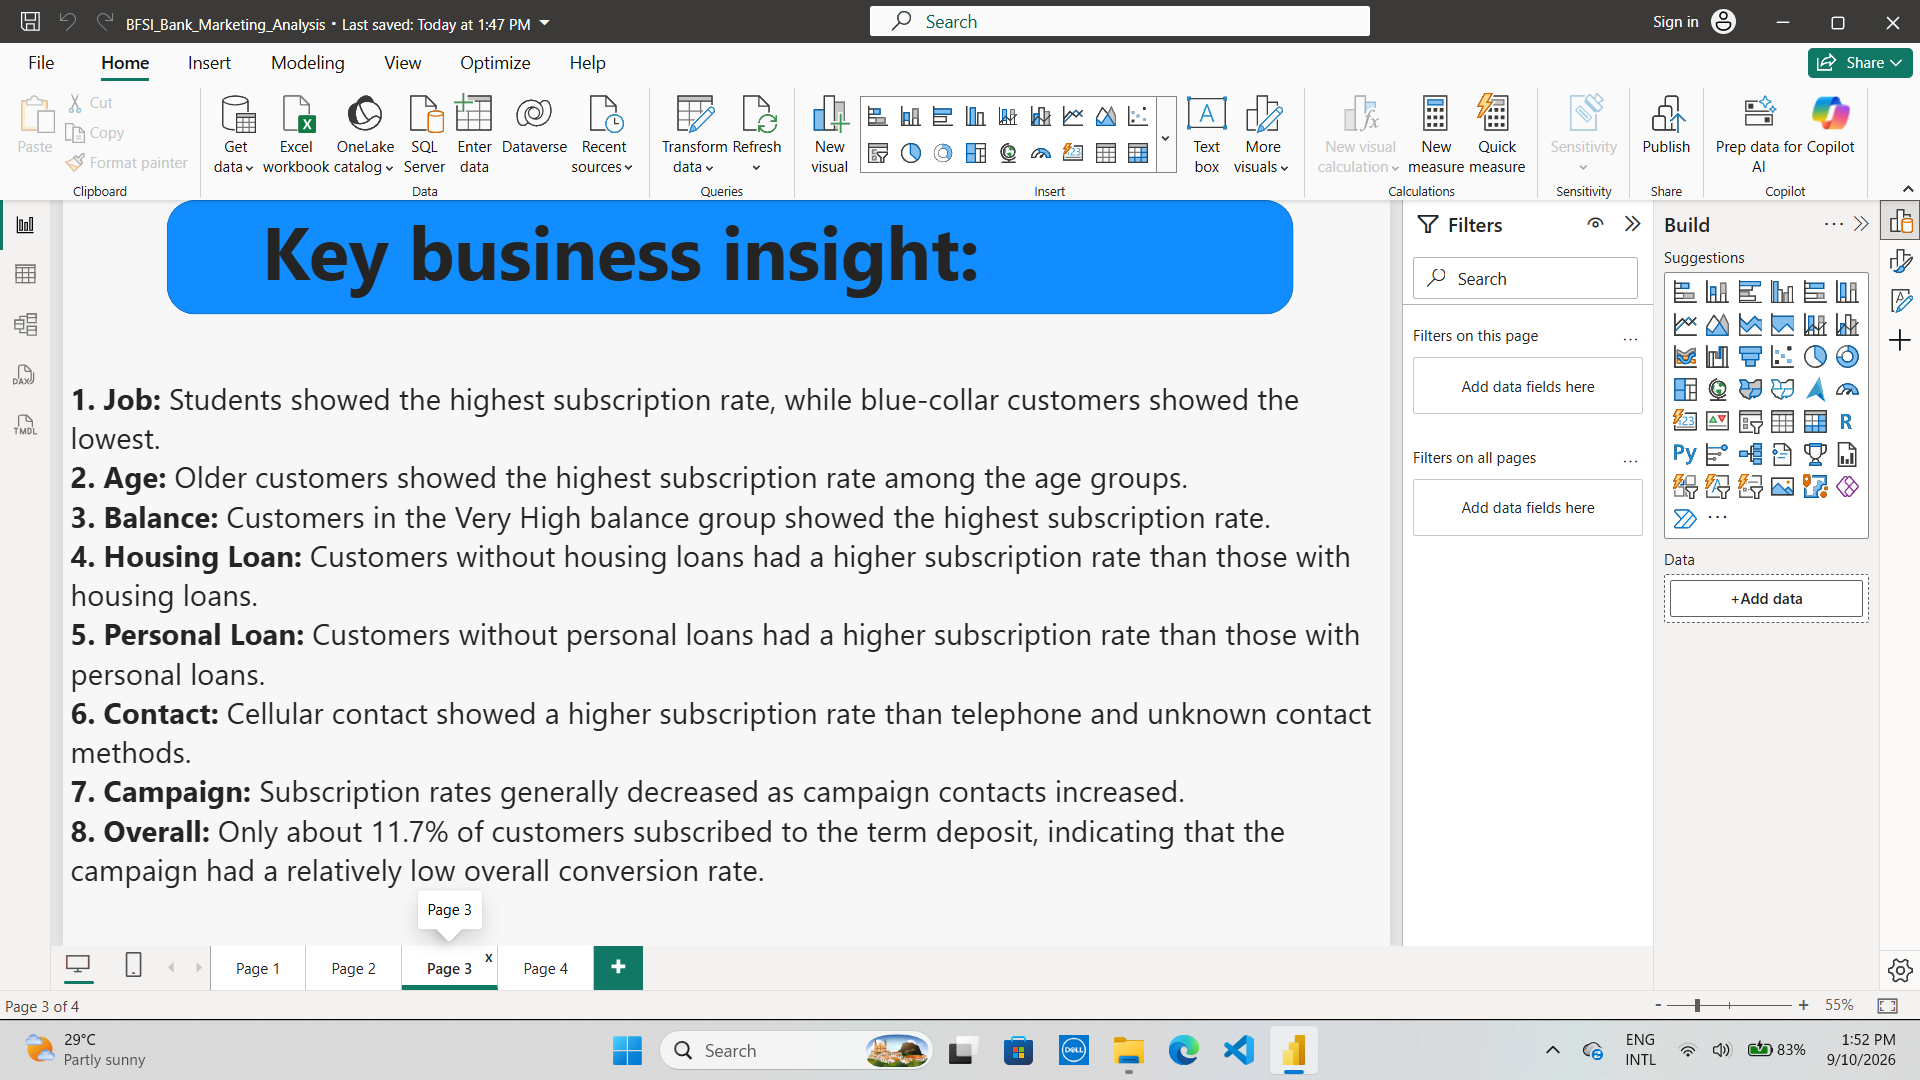

This screenshot's page, from the dashboard's own definition file:
{"tool":"powerbi","page":{"name":"Page 3","canvas":[1920,1080],"ordinal":2},"visuals":[{"type":"textbox","box":[10.7,0,1908.8,1081.2],"z":0},{"type":"shape","box":[149.5,0,1631.2,165.5],"z":1},{"type":"textbox","box":[288.3,0,1286.8,165.5],"z":2}]}

Visuals, with their boxes on the page's 1920x1080 design canvas (x1, y1, x2, y2). These are canvas units, not pixel positions in the 1920x1080 screenshot, which may show the page scaled, cropped or inside an application window:
textbox: locate(11, 0, 1920, 1081)
shape: locate(150, 0, 1781, 166)
textbox: locate(288, 0, 1575, 166)
